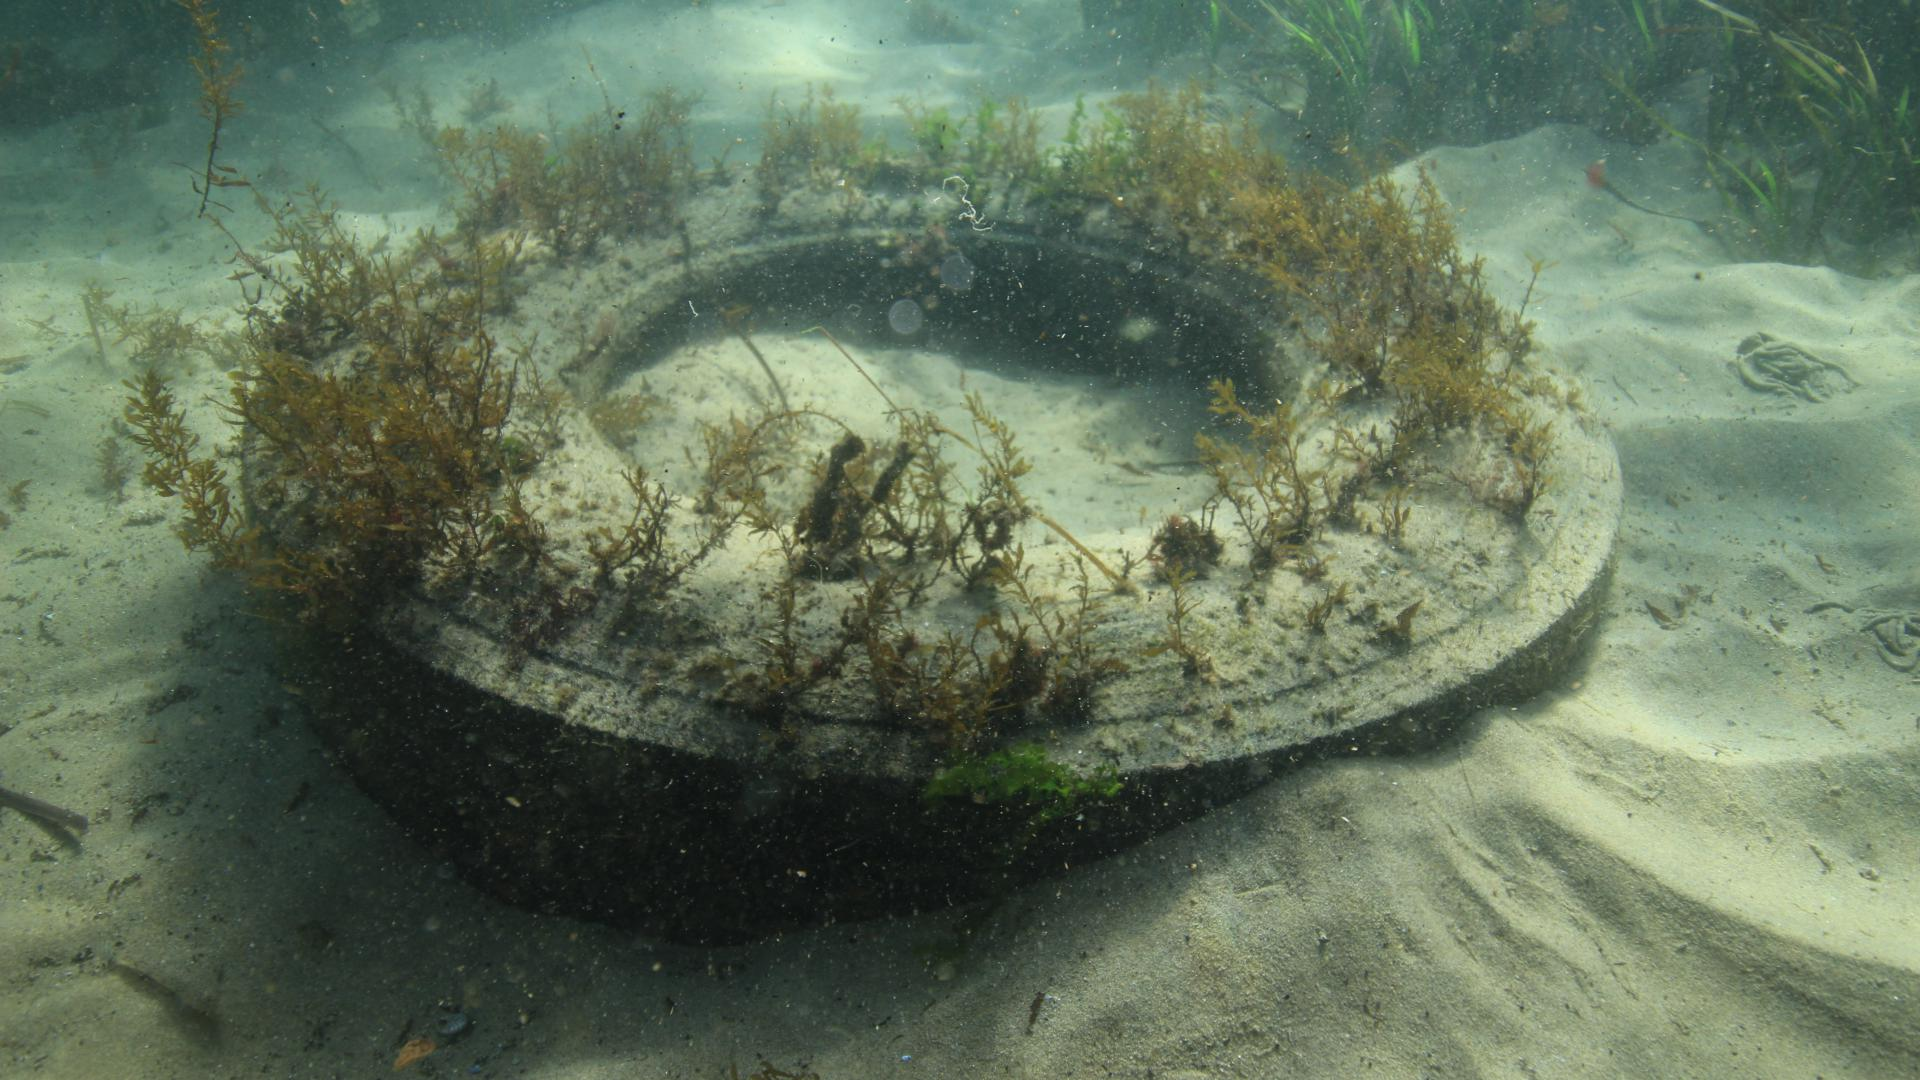tire: (237, 154, 1627, 945)
